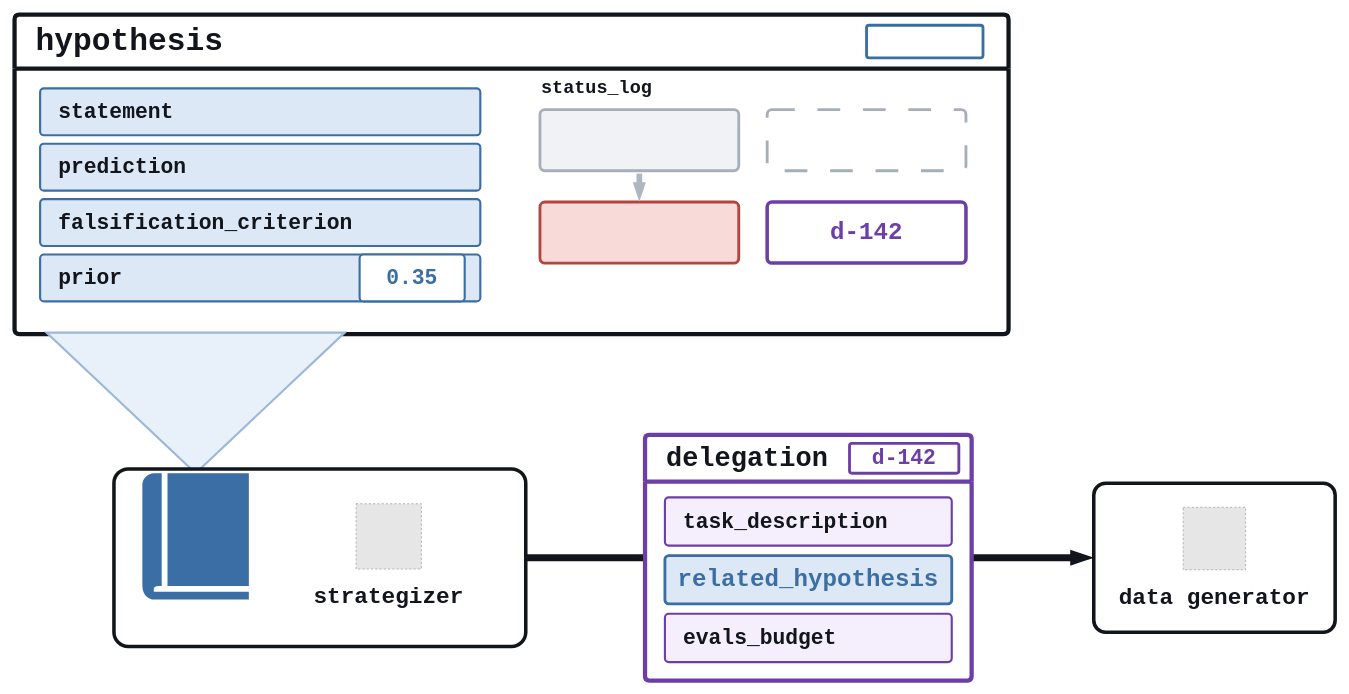
Some shapes in this 1349 by 694 pixel diagram are drawn without their labels. Grey dashed boxes stand in for pictures. The centre of each missing label's shape, as x and y in pixels:
FALSIFIED: (639,232)
H-07: (924,41)
OPEN: (639,140)
